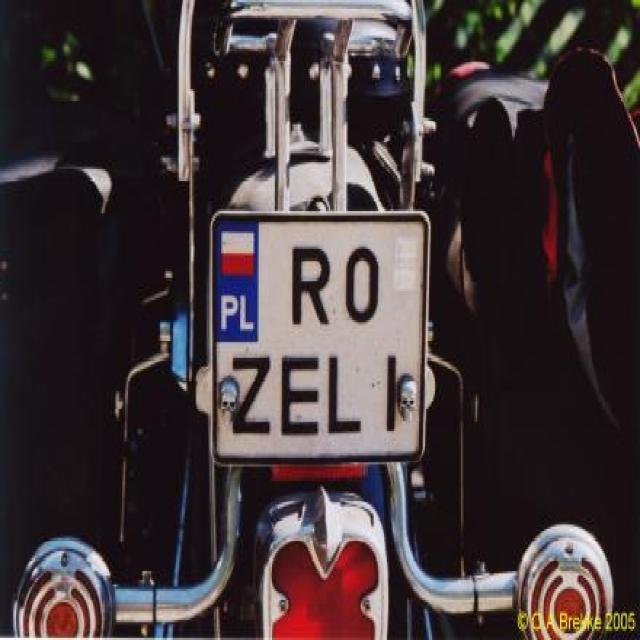pl_license_plate: (210, 214, 423, 456)
